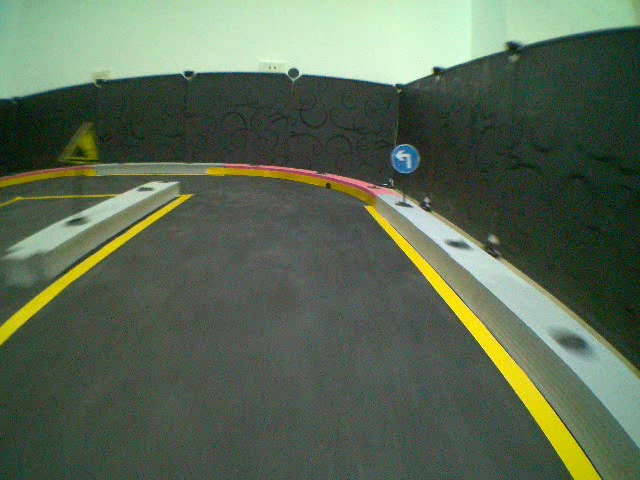fast: (52, 120, 108, 164)
turn: (391, 141, 423, 175)
